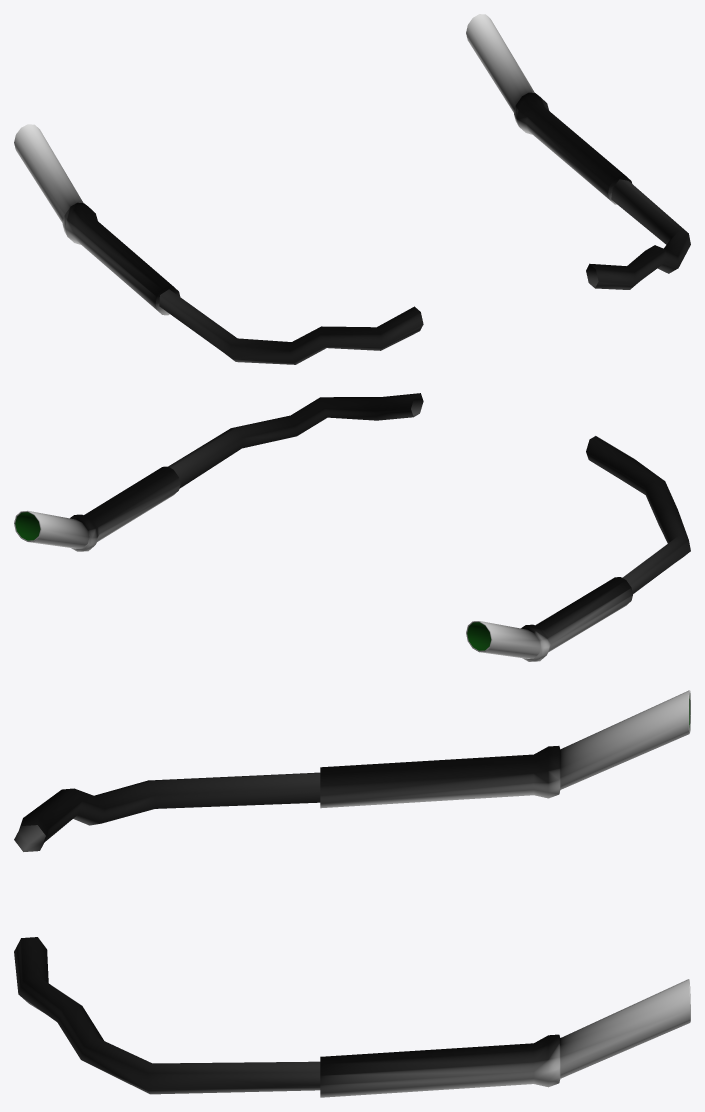
The model's file is Car_Buick_GrandNational_1987_Exhausts_SetFB.fbx.
3 views of the same model, one above another, from view 1: azimuth 30°, elevation 25°; view 2: azimuth 150°, elevation 25°; view 3: azimuth 270°, elevation 25° (orthographic). The views are drawn at different scales.
Visible parts, largest first — view 1: Exhausts 6; view 2: Exhausts 6; view 3: Exhausts 6.
Boxes of the visible parts, left/top/right/bottom form: Exhausts 6: left=14, top=14, right=690, bottom=364; Exhausts 6: left=14, top=393, right=690, bottom=661; Exhausts 6: left=14, top=690, right=690, bottom=1097.
Bounding box in the file's own units: 1.44 × 0.251 × 1.33.
